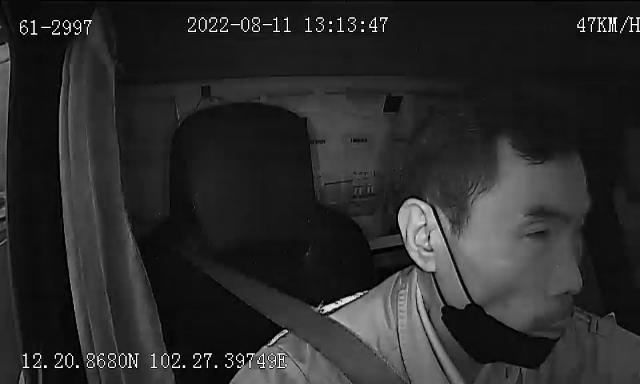Seatbelt: (208, 260, 408, 384)
